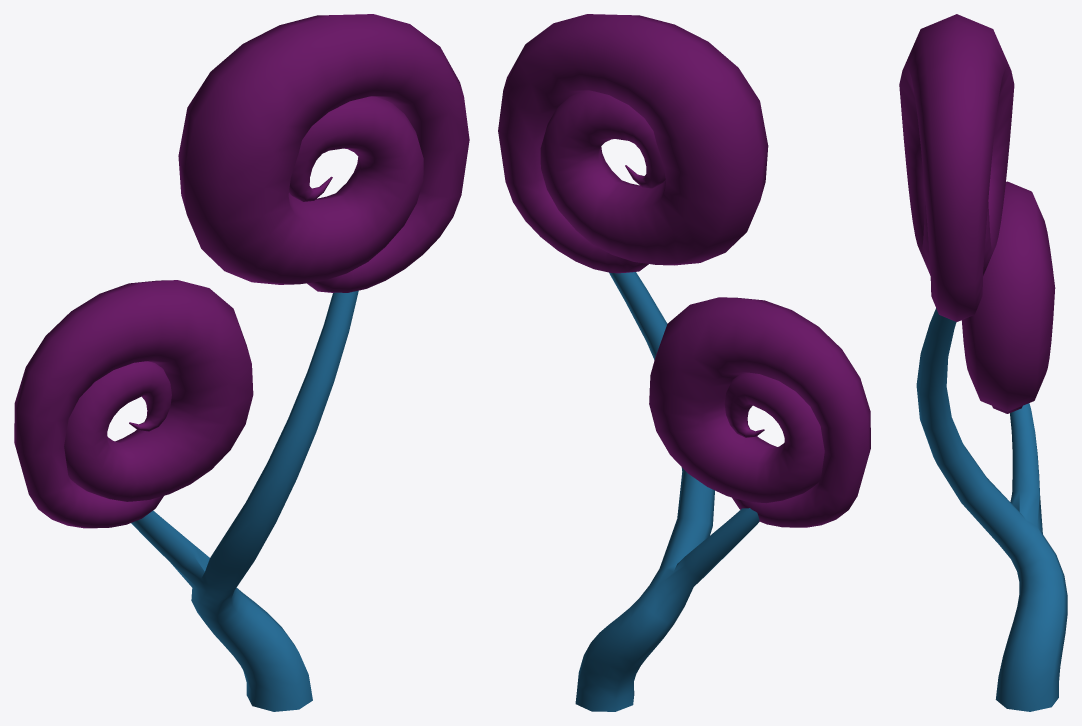
Rendered from usk_Tree_Swirl-iLxXSXIx2t.glb.
3 views of the same model, side by side, from view 1: azimuth 30°, elevation 25°; view 2: azimuth 150°, elevation 25°; view 3: azimuth 270°, elevation 25° (orthographic). The views are drawn at different scales.
Parts seen in each view (by area): view 1: Tree_Swirl_1; view 2: Tree_Swirl_1; view 3: Tree_Swirl_1.
Boxes of the visible parts, x1,y1,x2,y2 form: Tree_Swirl_1: [14, 14, 469, 711]; Tree_Swirl_1: [498, 14, 870, 711]; Tree_Swirl_1: [899, 14, 1067, 711].
Bounding box in the file's own units: 4.61 × 7.35 × 1.68.
1 material, 1 textured.
